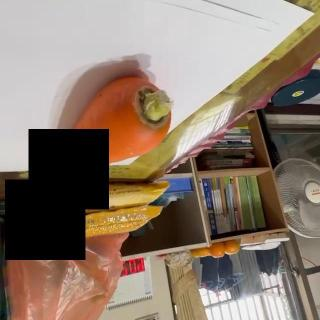carrot: (57, 75, 173, 178)
